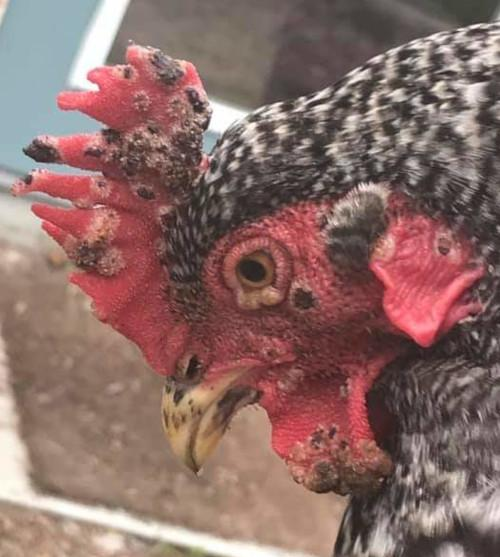AbNormal: (15, 48, 209, 365)
